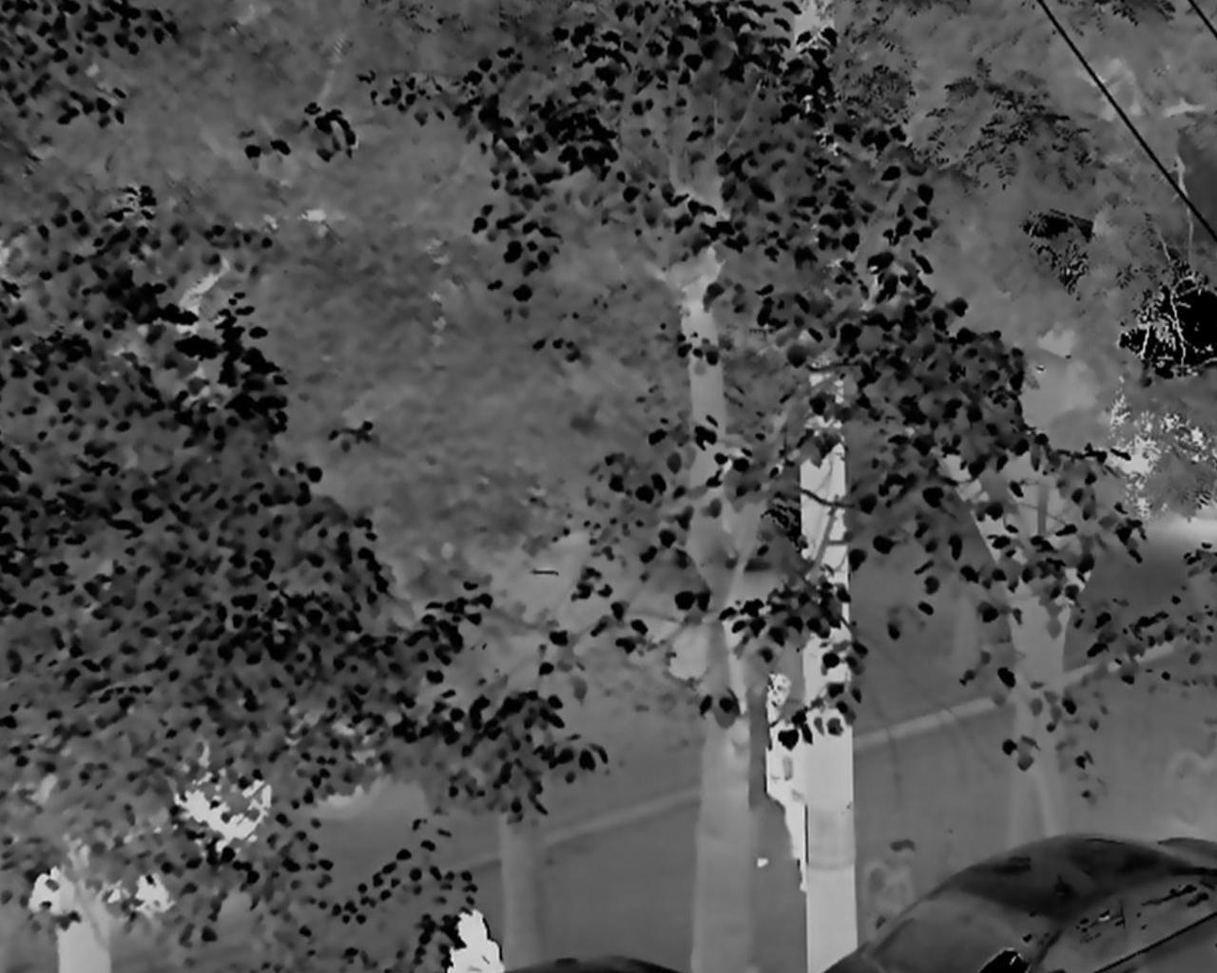person: (757, 677, 816, 886)
